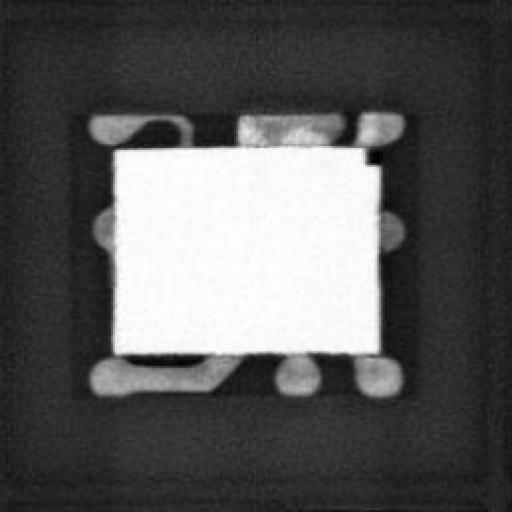DIE_BROKEN: (359, 140, 383, 165)
